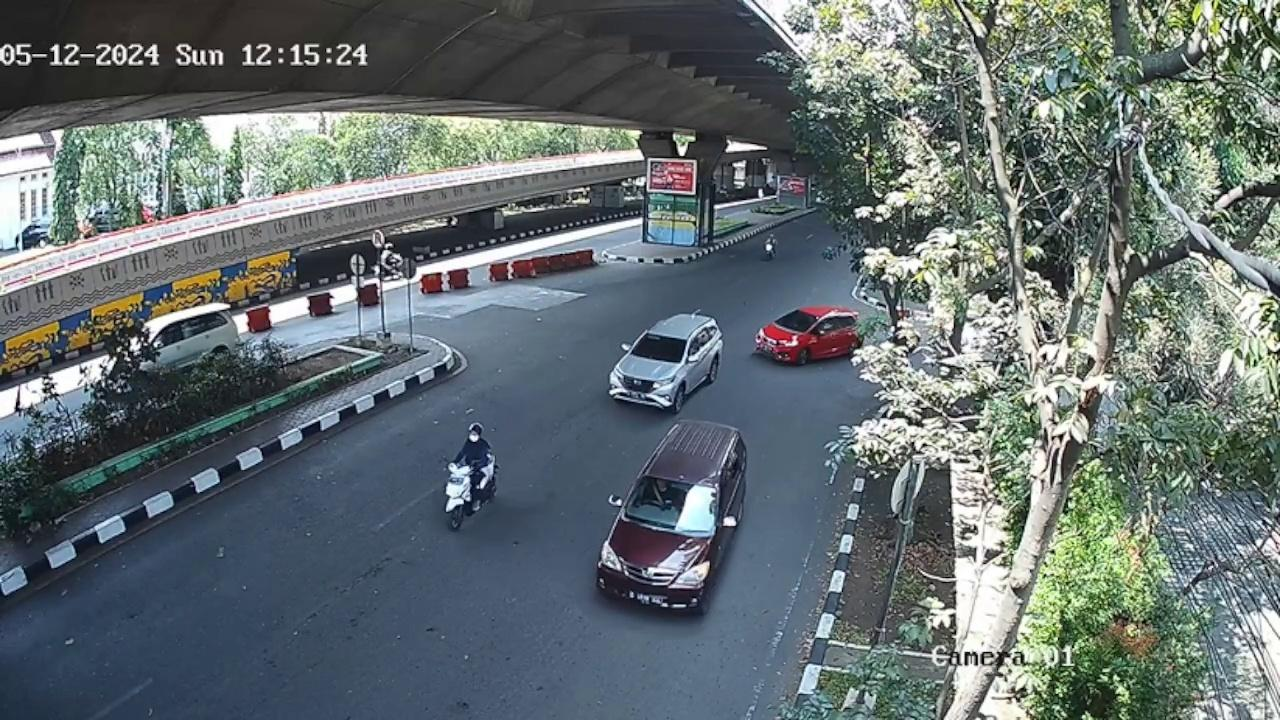pakai: (642, 483, 677, 514)
windshield: (627, 475, 720, 534), (627, 332, 687, 366)
